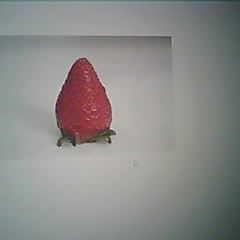straw-ripe: (56, 58, 113, 142)
